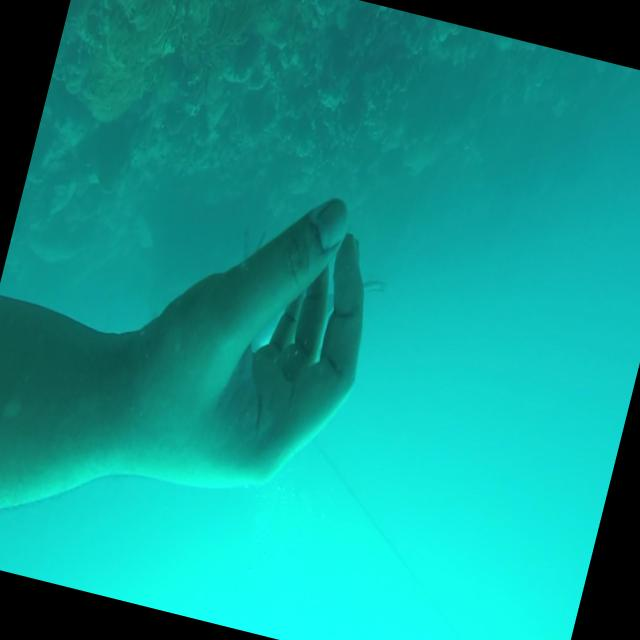human: (0, 123, 399, 618)
